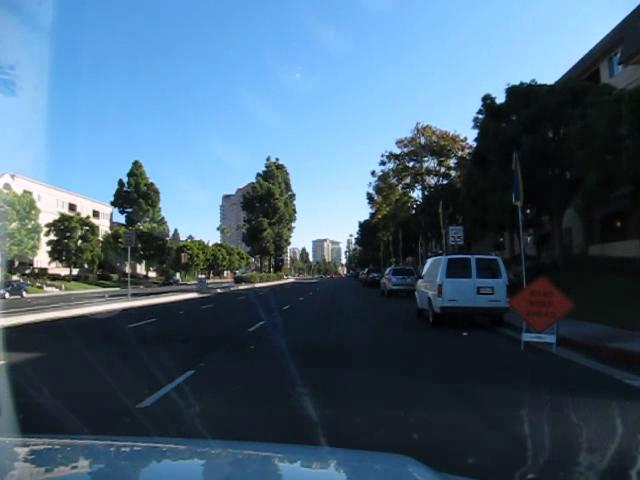speedLimit35: (448, 225, 464, 244)
